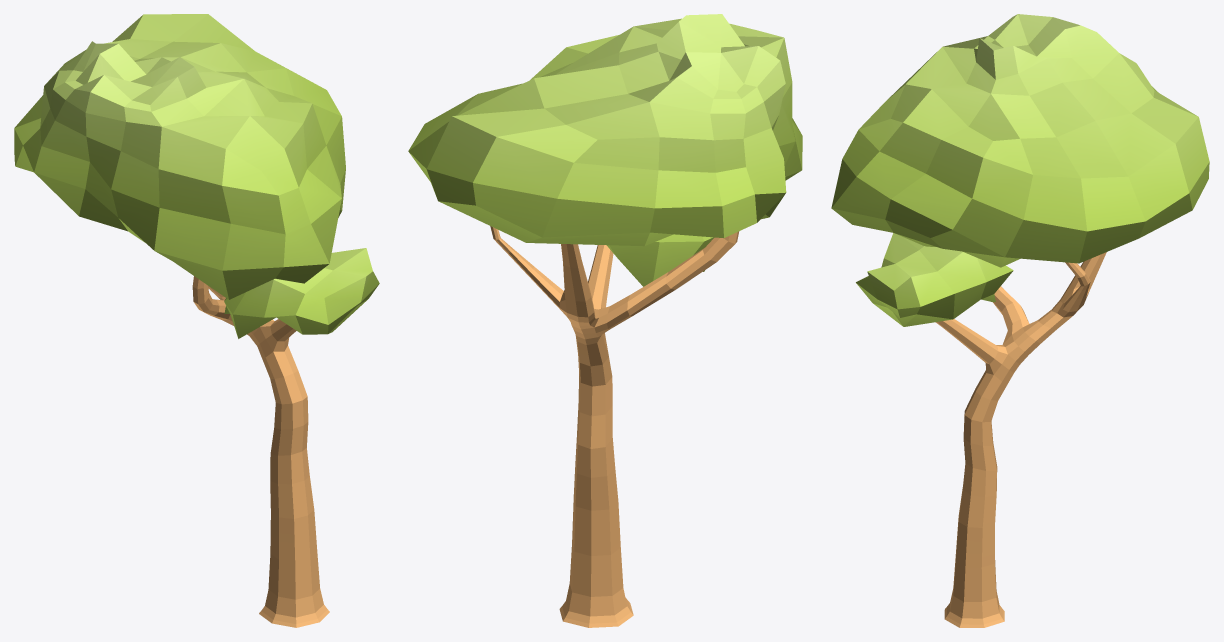
Rendered from CommonTree4.fbx.
3 views of the same model, side by side, from view 1: azimuth 30°, elevation 25°; view 2: azimuth 150°, elevation 25°; view 3: azimuth 270°, elevation 25° (orthographic). The views are drawn at different scales.
Parts seen in each view (by area): view 1: CommonTree_4_Cube.002, CommonTree_4_Cube.001; view 2: CommonTree_4_Cube.002, CommonTree_4_Cube.001; view 3: CommonTree_4_Cube.002, CommonTree_4_Cube.001.
Part boxes in pixels (x1,y1,x2,y2): CommonTree_4_Cube.002: (14, 14, 379, 338); CommonTree_4_Cube.001: (192, 276, 329, 627); CommonTree_4_Cube.002: (408, 14, 802, 286); CommonTree_4_Cube.001: (490, 226, 739, 627); CommonTree_4_Cube.002: (831, 14, 1209, 326); CommonTree_4_Cube.001: (936, 252, 1106, 627).
Size of the model in its own units: 158 by 278 by 180.
